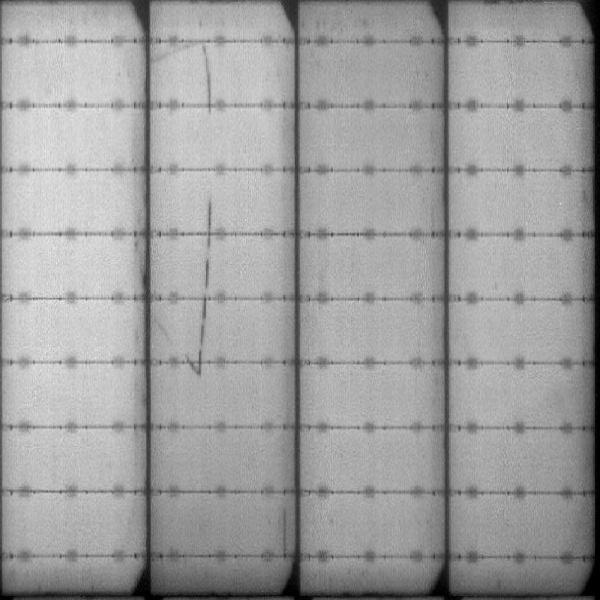scratch: (201, 192, 219, 296), (191, 299, 210, 373), (199, 48, 214, 114), (281, 510, 292, 560)
